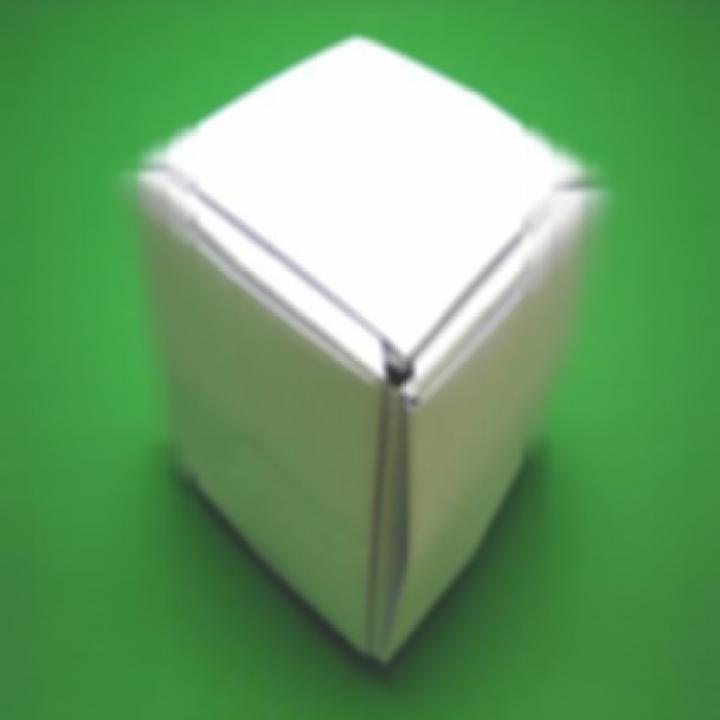package: (133, 37, 592, 668)
